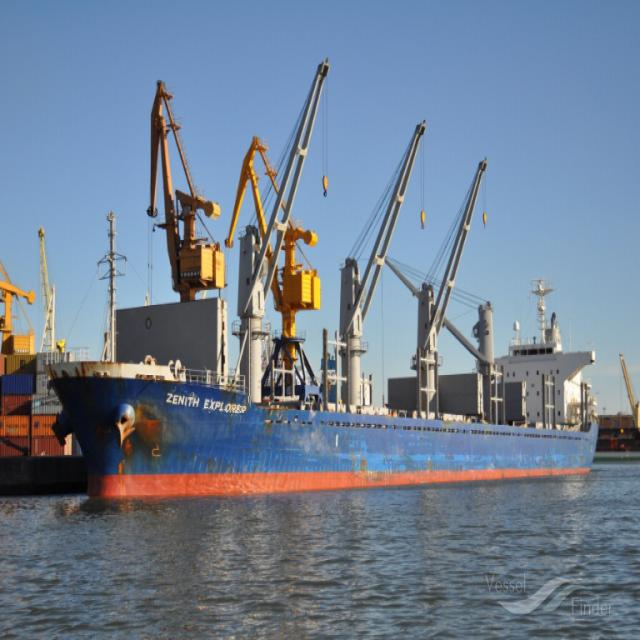OCR: (166, 382, 252, 413)
